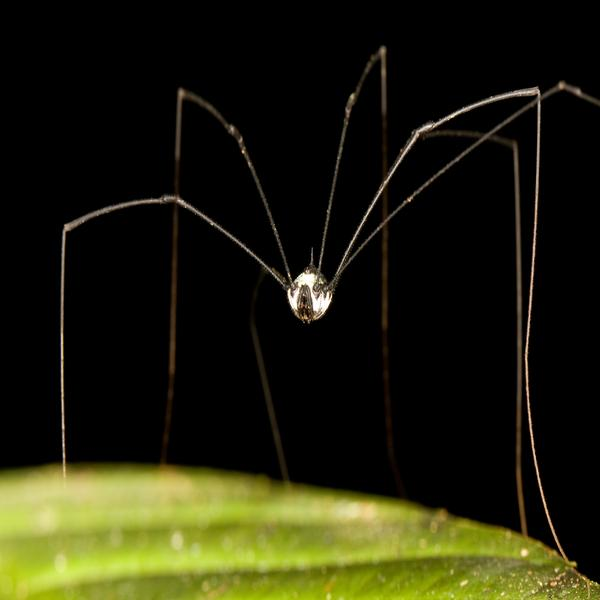Daddy Long Legs Spider: (56, 50, 580, 547)
